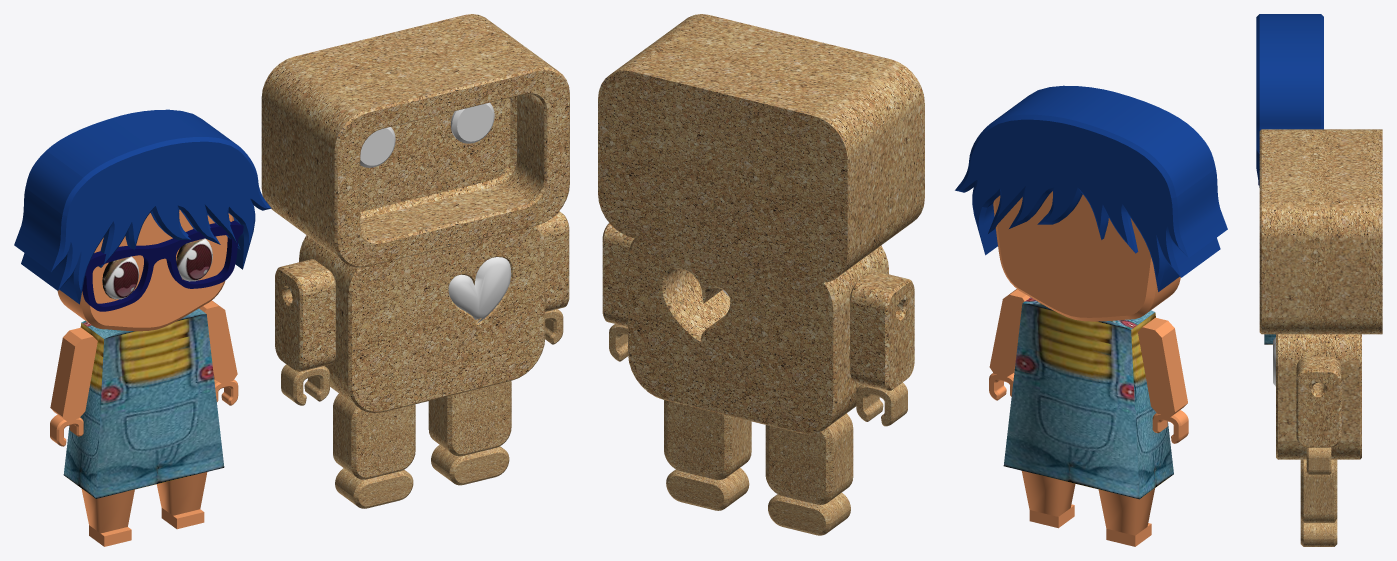
File: Character.FBX
3 views of the same model, side by side, from view 1: azimuth 30°, elevation 25°; view 2: azimuth 150°, elevation 25°; view 3: azimuth 270°, elevation 25° (orthographic). The views are drawn at different scales.
Visible parts, largest first — view 1: Character2_head, Character2_body, Character1_hair, Character1_body, Character1_head, Character2_arm001, Characterr2_leg001, Characterr2_leg, Character1_glass, Character1_arm001, heart001, Character1_eye (+9 smaller); view 2: Character2_head, Character2_body, Character1_hair, Character1_body, Character1_head, Character2_arm001, Characterr2_leg001, Characterr2_leg, Character1_arm001, Characterr2_arm, Character2_foot, Characterr2_foot001 (+5 smaller); view 3: Character2_head, Character1_hair, Character2_body, Characterr2_arm, Characterr2_leg, Character2_foot, Character2_hand.
Boxes of the visible parts, x1=… form: Character2_head: x1=261, y1=14, x2=569, y2=267; Character2_body: x1=299, y1=225, x2=545, y2=413; Character1_hair: x1=14, y1=109, x2=271, y2=304; Character1_body: x1=63, y1=308, x2=224, y2=498; Character1_head: x1=57, y1=210, x2=233, y2=331; Character2_arm001: x1=275, y1=259, x2=335, y2=371; Characterr2_leg001: x1=333, y1=393, x2=415, y2=479; Characterr2_leg: x1=428, y1=381, x2=511, y2=456; Character1_glass: x1=82, y1=221, x2=243, y2=311; Character1_arm001: x1=50, y1=327, x2=97, y2=421; heart001: x1=448, y1=257, x2=511, y2=323; Character1_eye: x1=102, y1=238, x2=212, y2=299; Character2_head: x1=598, y1=14, x2=924, y2=282; Character2_body: x1=628, y1=238, x2=888, y2=434; Character1_hair: x1=955, y1=85, x2=1227, y2=291; Character1_body: x1=1003, y1=297, x2=1173, y2=499; Character1_head: x1=993, y1=191, x2=1180, y2=321; Character2_arm001: x1=850, y1=271, x2=914, y2=390; Characterr2_leg001: x1=765, y1=413, x2=853, y2=504; Characterr2_leg: x1=664, y1=400, x2=751, y2=479; Character1_arm001: x1=1138, y1=317, x2=1187, y2=416; Characterr2_arm: x1=602, y1=223, x2=634, y2=326; Character2_foot: x1=666, y1=468, x2=749, y2=510; Characterr2_foot001: x1=768, y1=492, x2=850, y2=535; Character2_head: x1=1259, y1=129, x2=1382, y2=334; Character1_hair: x1=1256, y1=14, x2=1323, y2=187; Character2_body: x1=1276, y1=334, x2=1361, y2=459; Characterr2_arm: x1=1296, y1=356, x2=1341, y2=447; Characterr2_leg: x1=1300, y1=459, x2=1337, y2=522; Character2_foot: x1=1300, y1=518, x2=1337, y2=546; Character2_hand: x1=1306, y1=447, x2=1331, y2=474.
Size of the model in its own units: 199 by 156 by 48.43.
Materials: 6 (3 with a texture image).
